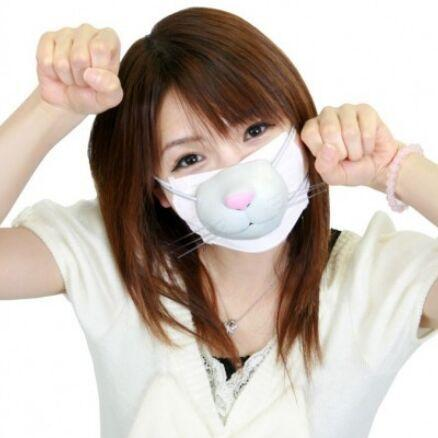face_mask: (159, 70, 302, 248)
